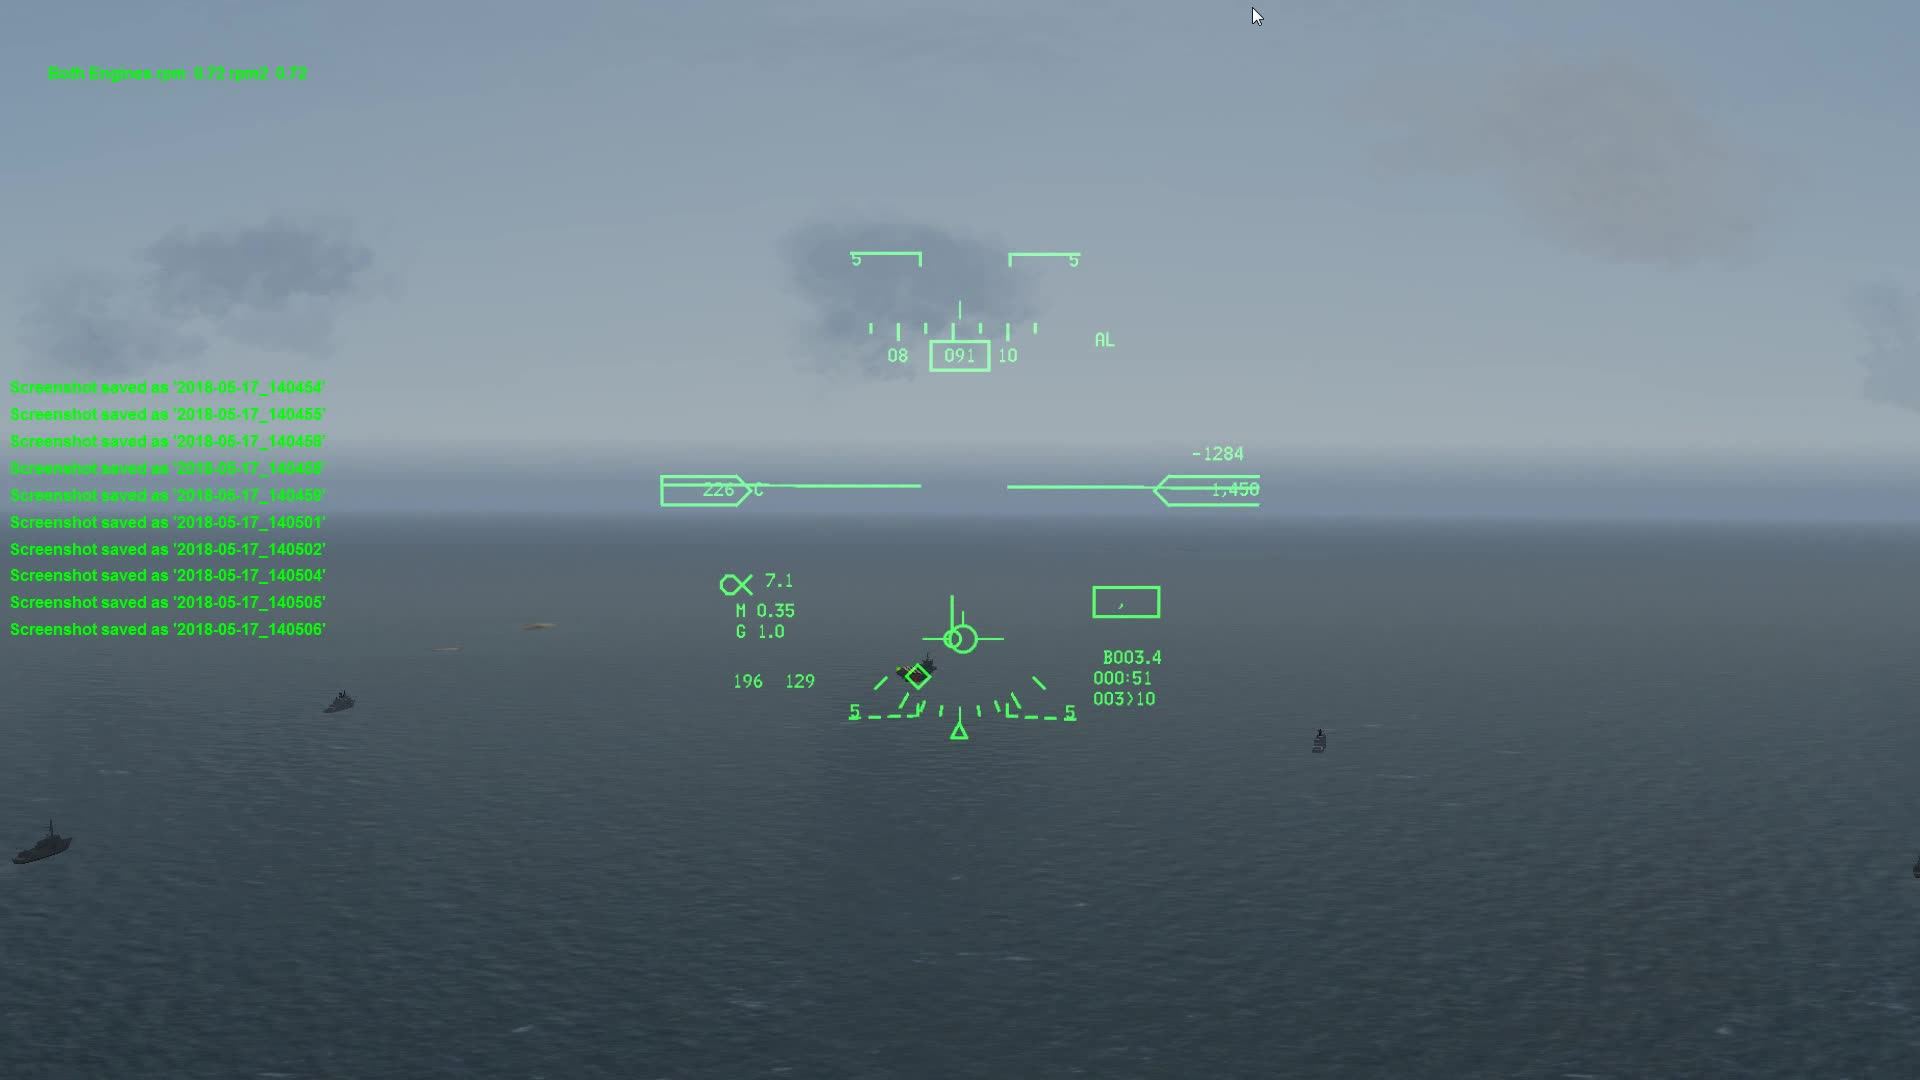speed vector: (910, 591, 1000, 658)
